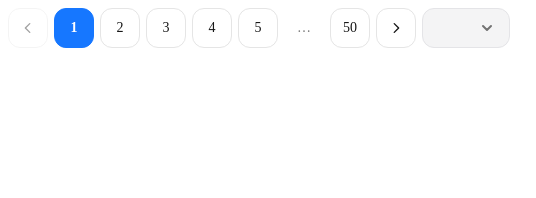
Scenario: Pagination — sizeChanger › respects custom pageSizeOptions
What coordinates should you click on to do the following:
click the dropdown named "每页条数"
I would click on:
 (466, 28)
Its box is left=423, top=9, right=509, bottom=47.
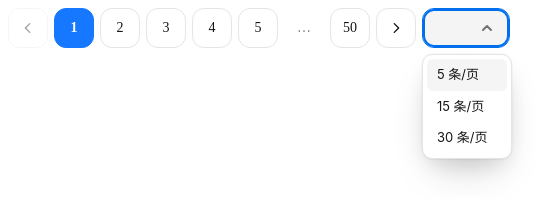
Expected: the options read "5 条/页", "15 条/页", "30 条/页", in this order, left=427, top=59, right=507, bottom=90; left=437, top=98, right=484, bottom=114; left=437, top=129, right=487, bottom=145
